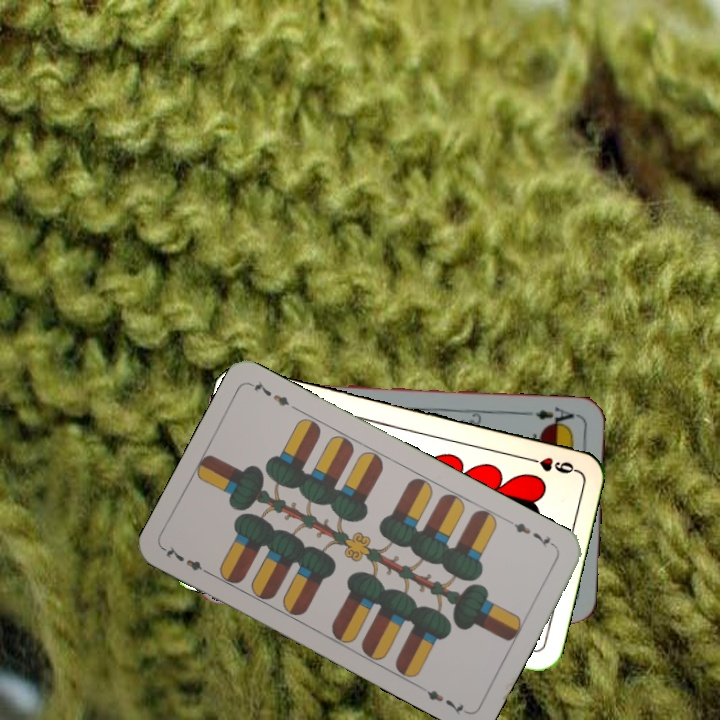E7: (160, 541, 215, 578), (504, 515, 559, 551)
EA: (522, 402, 581, 430)
H9: (521, 453, 579, 477)
